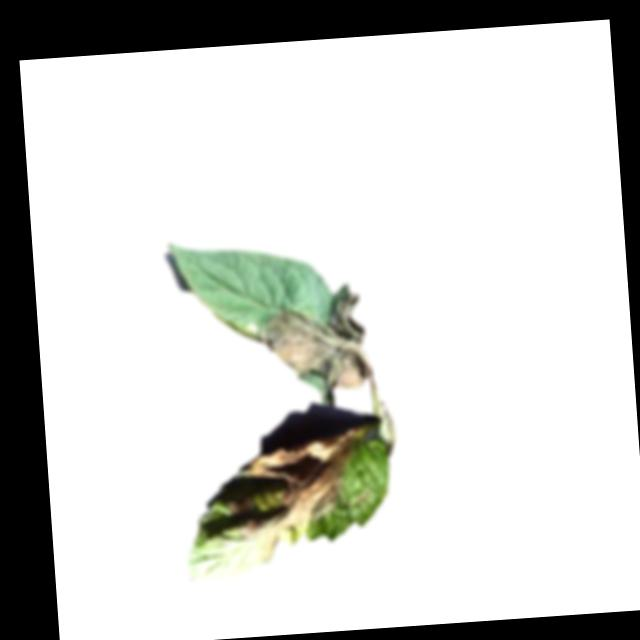Late_blight: (215, 429, 368, 566), (256, 281, 373, 396)
